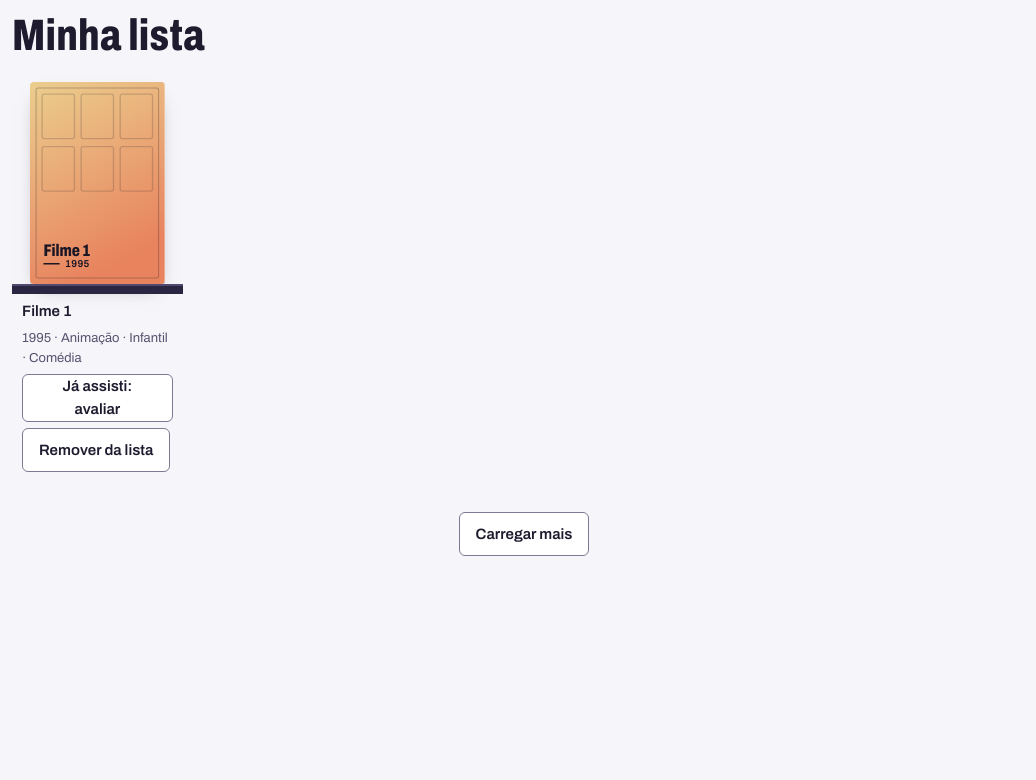
paginação depois de remoções (nenhum filme é pulado) › esvaziar a primeira página recarrega a lista em vez de mostrar grade vazia com "Carregar mais"
Expected: the text "Filme 1" is shown, [22,303,72,319]
Click the button "Remover da lista".
click(96, 450)  # box [22,428,170,472]
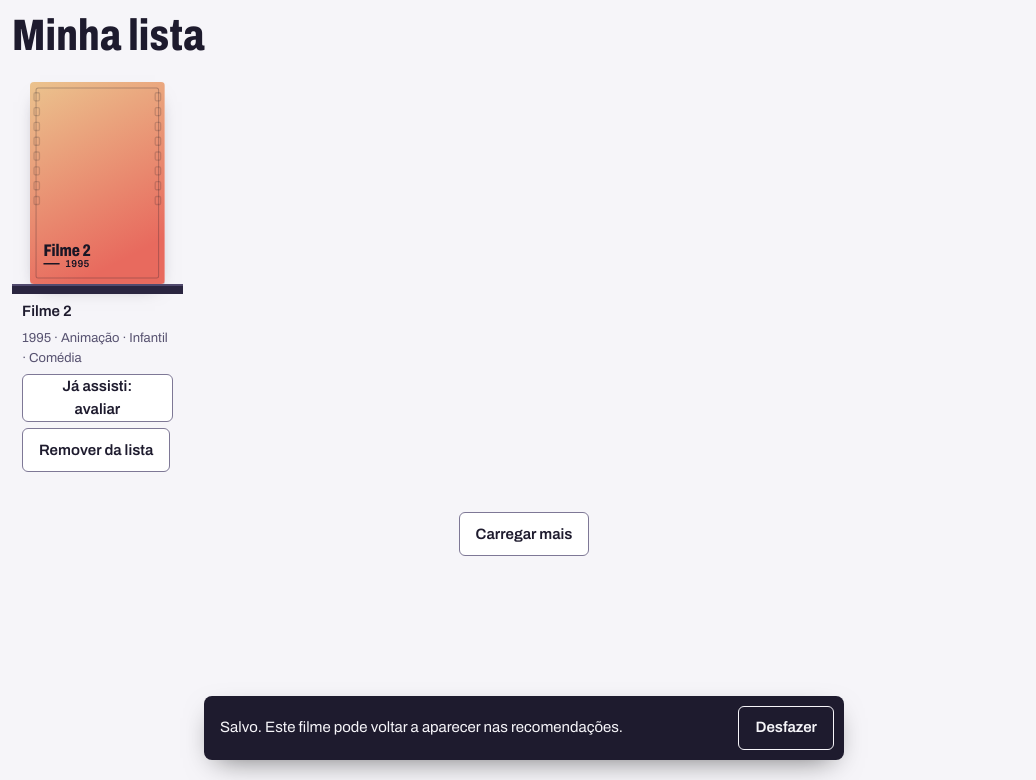
Expected: the text "Filme 2" is shown, [22,303,72,319]
Expected: the link "Filme 1" is gone
Click the button "Carregar mais".
click(524, 534)  # box [459,512,589,556]
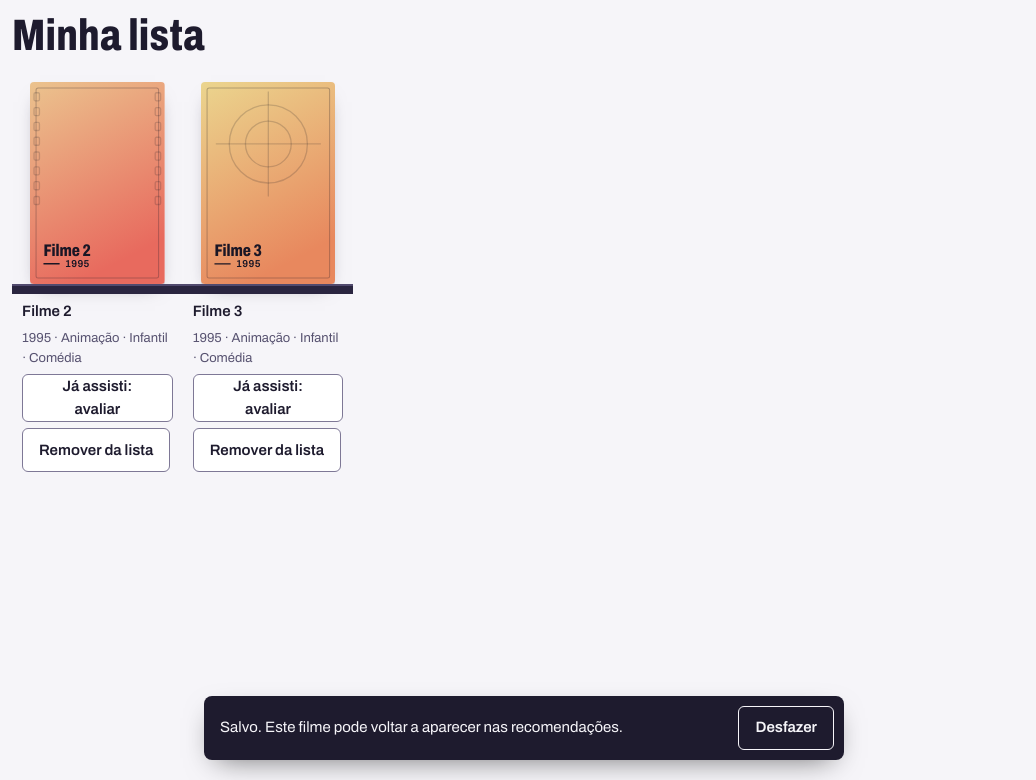
Expected: the text "Filme 3" is shown, [193,303,242,319]
Expected: the button "Carregar mais" is gone
